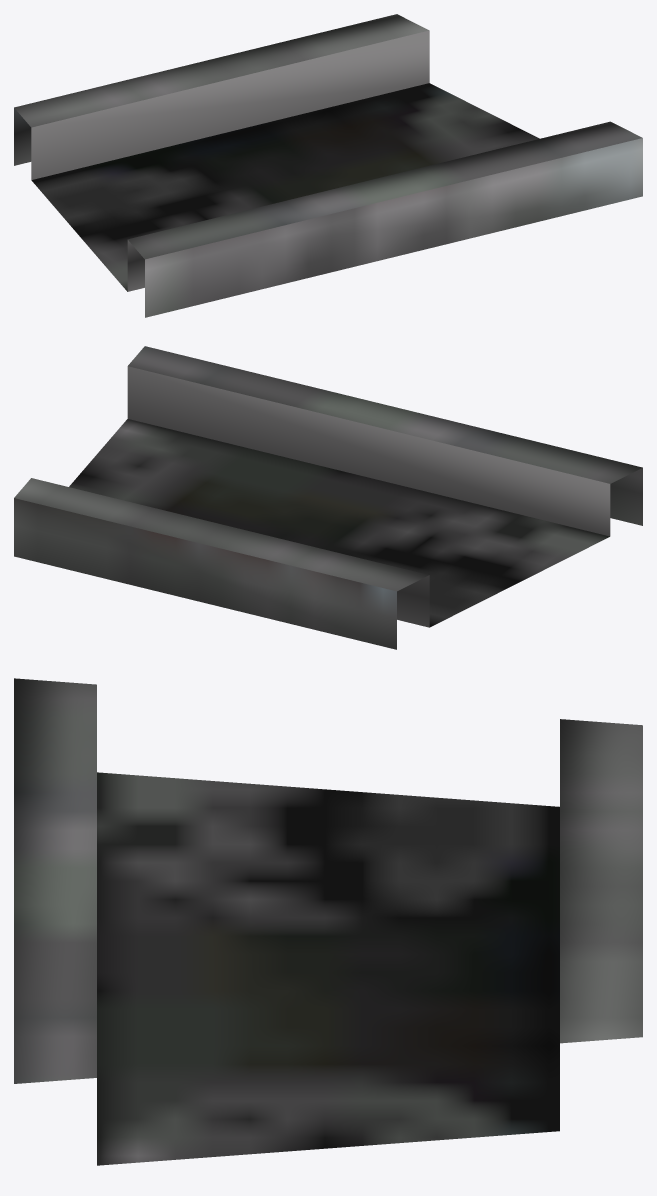
Rendered from Shared - Armor - Tanker Truck - Damage State 29 - CVTanker_d29.glb.
3 renders of one model, top to bottom at view 1: azimuth 30°, elevation 25°; view 2: azimuth 150°, elevation 25°; view 3: azimuth 270°, elevation 25°, orthographic. The views are drawn at different scales.
Visible parts, largest first — view 1: CVTANKER_D29; view 2: CVTANKER_D29; view 3: CVTANKER_D29.
Boxes of the visible parts, x1,y1,x2,y2 form: CVTANKER_D29: (14, 14, 642, 317); CVTANKER_D29: (14, 346, 642, 649); CVTANKER_D29: (14, 678, 642, 1165).
Size of the model in its own units: 8.01 by 0.8981 by 5.25.
1 material, 1 textured.
